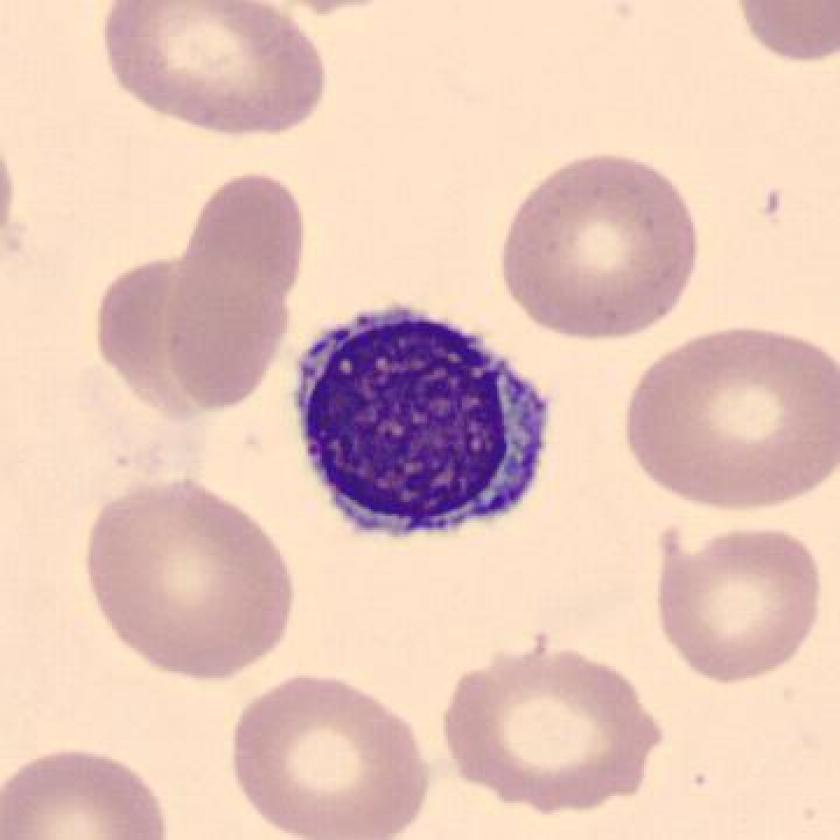lymphocyte: (277, 293, 571, 554)
